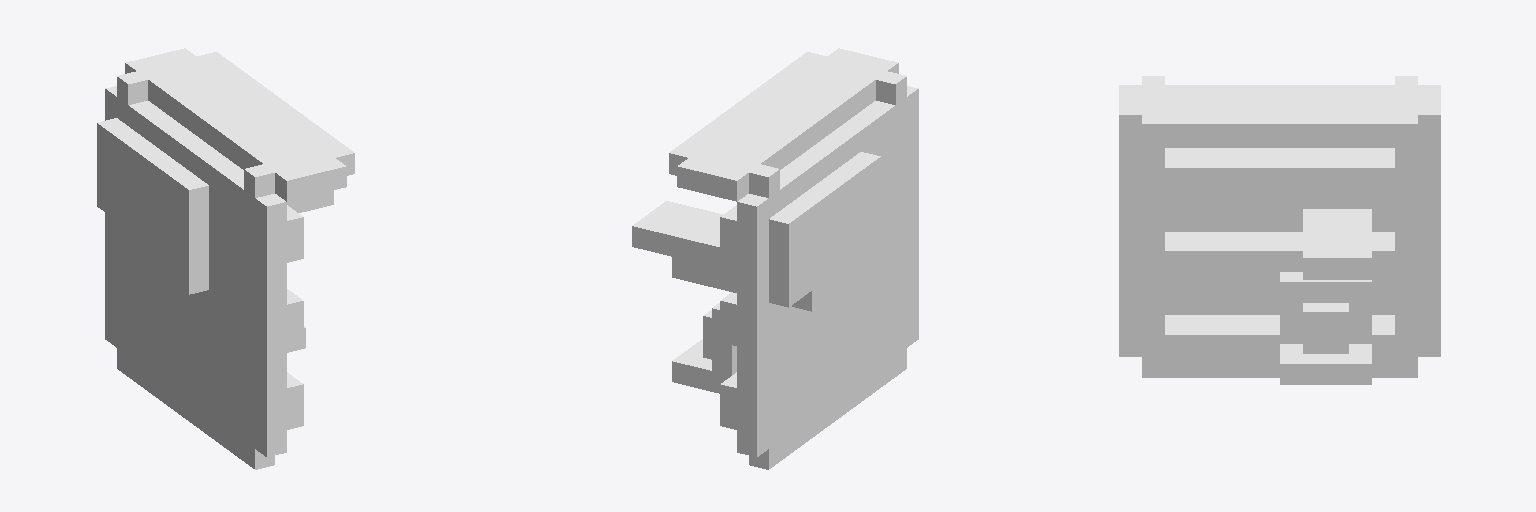
File: Arm-28.obj
The picture shows the model from 3 angles: view 1: azimuth 30°, elevation 25°; view 2: azimuth 150°, elevation 25°; view 3: azimuth 270°, elevation 25°; orthographic projection.
Visible parts, largest first — view 1: object 1; view 2: object 1; view 3: object 1.
Part boxes in pixels (x1,y1,x2,y2): object 1: (97, 48, 354, 469); object 1: (632, 48, 918, 469); object 1: (1119, 76, 1440, 384).
Bounding box in the file's own units: 0.9 × 1.4 × 1.4.